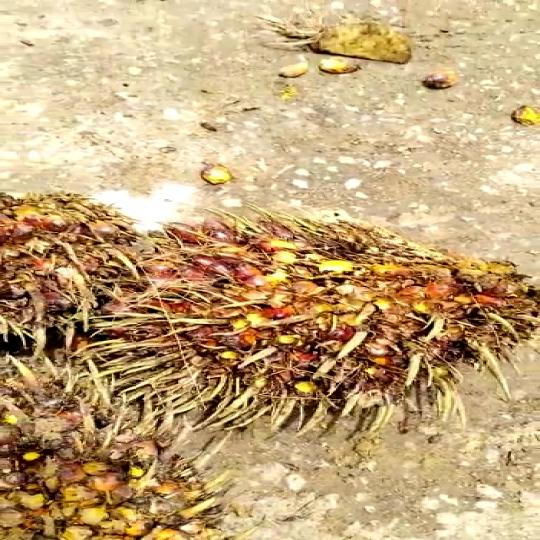masak: (111, 200, 540, 431)
